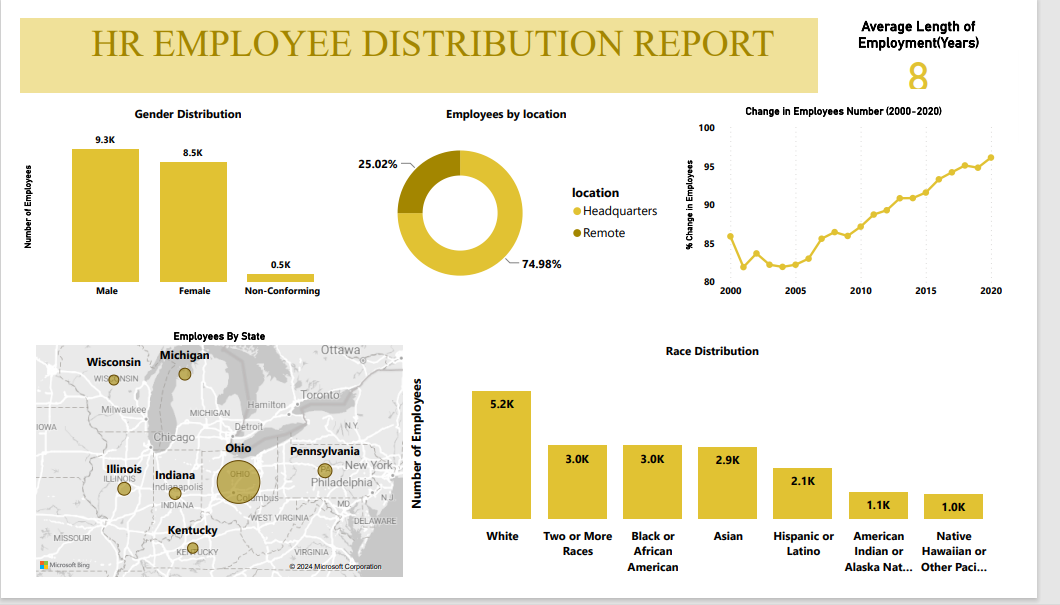

The page's visual inventory and layout, read from the dashboard file:
{"tool":"powerbi","page":{"name":"Page 1","canvas":[1280,720],"ordinal":0},"visuals":[{"type":"textbox","box":[16,0,1104,64],"z":0},{"type":"textbox","box":[0,0,1024,96],"z":1000},{"type":"card","title":"Average Length of Employment(Years)","fields":{"Values":["Sum(avg_len_employee_hr.avg_length_employment)"]},"box":[1024,0,256,96],"z":2000},{"type":"clusteredColumnChart","title":"Gender Distribution ","fields":{"Category":["gender_count_hr.gender"],"Y":["Sum(gender_count_hr.COUNT(*))"]},"box":[0,112,432,256],"z":3000},{"type":"donutChart","title":"Employees by location","fields":{"Category":["location_count_hr.location"],"Y":["Sum(location_count_hr.count)"]},"box":[416,112,416,256],"z":4000},{"type":"lineChart","title":"Change in Employees Number (2000-2020)","fields":{"Category":["net_change_percent_hr.year"],"Y":["Sum(net_change_percent_hr.net_change_percent)"]},"box":[848,112,416,256],"z":5000},{"type":"map","title":"Employees By State","fields":{"Size":["Sum(employees_location_count_hr.count)"],"Category":["employees_location_count_hr.location_state"]},"box":[16,400,480,320],"z":6000},{"type":"clusteredColumnChart","title":"Race Distribution ","fields":{"Category":["racial_count_hr.race"],"Y":["Sum(racial_count_hr.racial_count)"]},"box":[496,416,784,304],"z":7000}]}

Visuals, with their boxes in screenshot pixels (x1, y1, x2, y2), scaled from the page's 1280x720 canvas onto the 1060x605 screenshot:
textbox: {"x1": 13, "y1": 0, "x2": 928, "y2": 54}
textbox: {"x1": 0, "y1": 0, "x2": 848, "y2": 81}
"Average Length of Employment(Years)" card: {"x1": 848, "y1": 0, "x2": 1059, "y2": 81}
"Gender Distribution " clusteredColumnChart: {"x1": 0, "y1": 94, "x2": 358, "y2": 309}
"Employees by location" donutChart: {"x1": 344, "y1": 94, "x2": 689, "y2": 309}
"Change in Employees Number (2000-2020)" lineChart: {"x1": 702, "y1": 94, "x2": 1047, "y2": 309}
"Employees By State" map: {"x1": 13, "y1": 336, "x2": 411, "y2": 604}
"Race Distribution " clusteredColumnChart: {"x1": 411, "y1": 350, "x2": 1059, "y2": 604}
